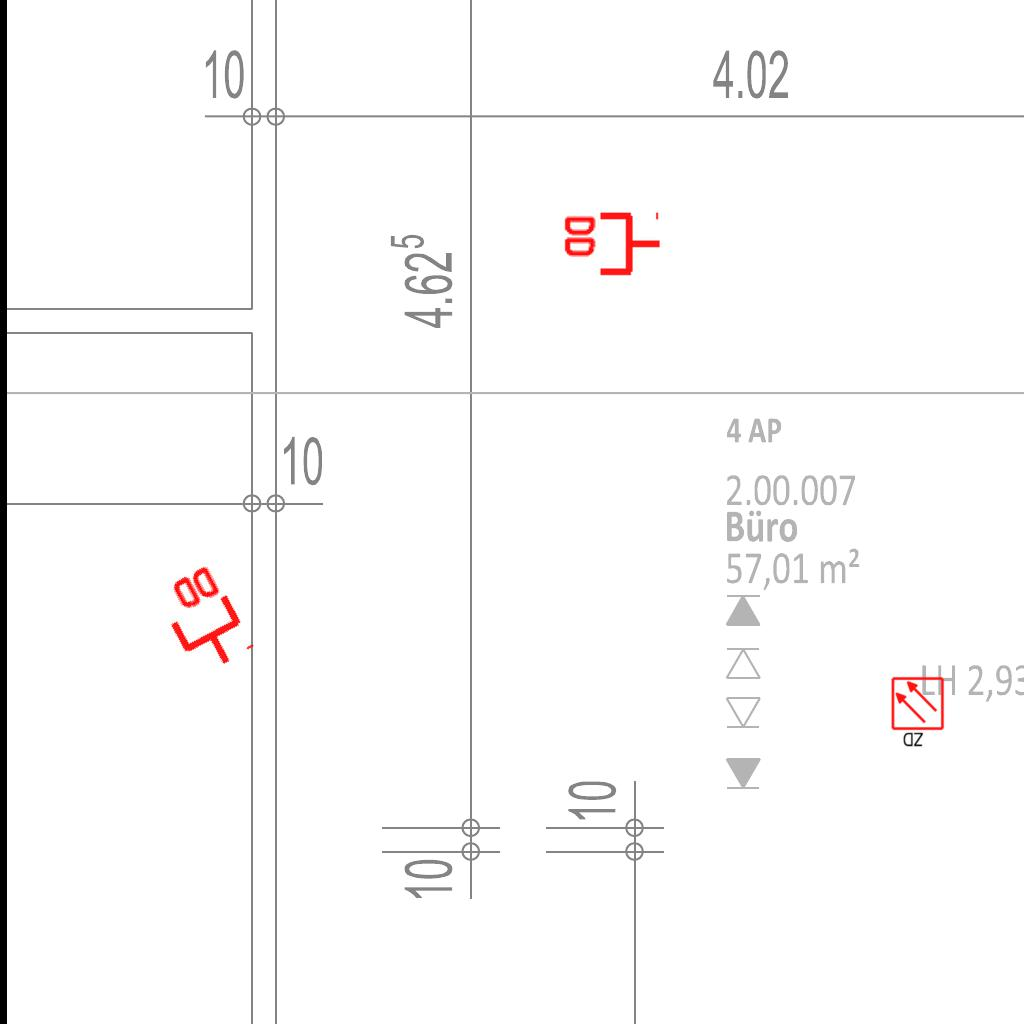Datenanschluss_zweifach: (147, 558, 258, 683), (560, 211, 663, 280)
ZD_Melder_in_Zwischendecke_mit_Revisionsoeffnung_mind_40_x_40_cm: (890, 676, 947, 750)
